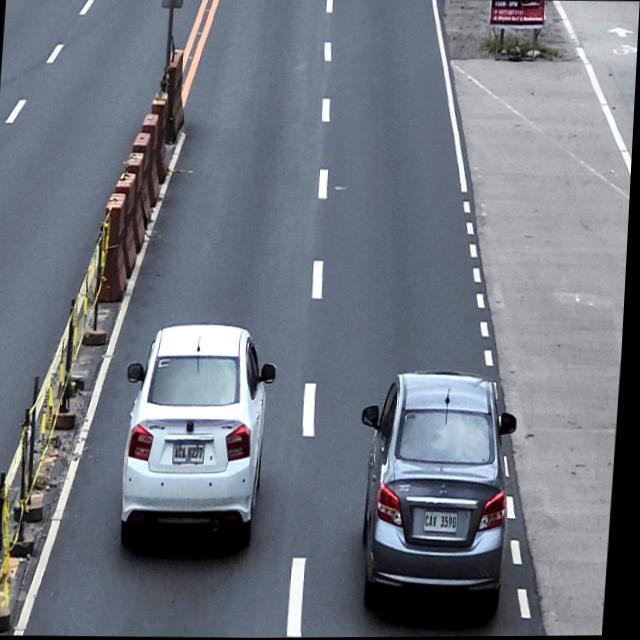Car: (353, 369, 524, 619), (121, 321, 283, 551)
License-Plate: (427, 508, 464, 534), (175, 440, 211, 466)
